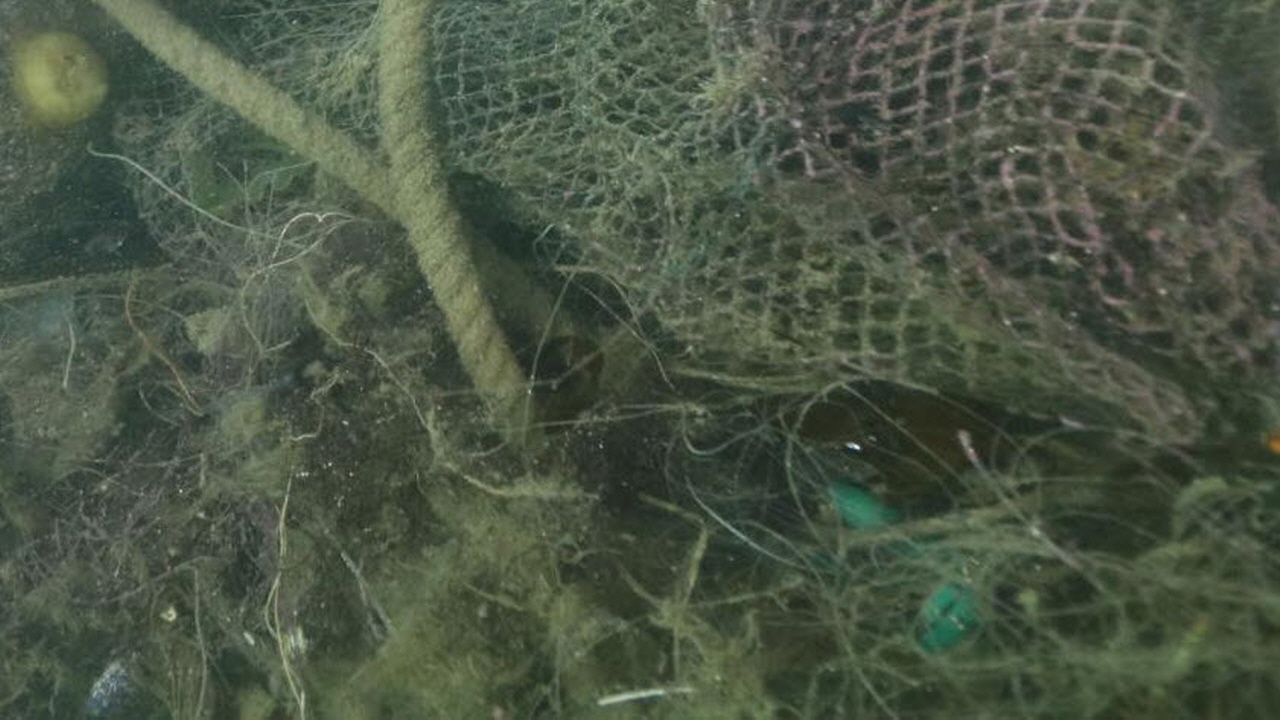bundle of ropes: (98, 0, 554, 456)
fish net: (118, 0, 1279, 443)
